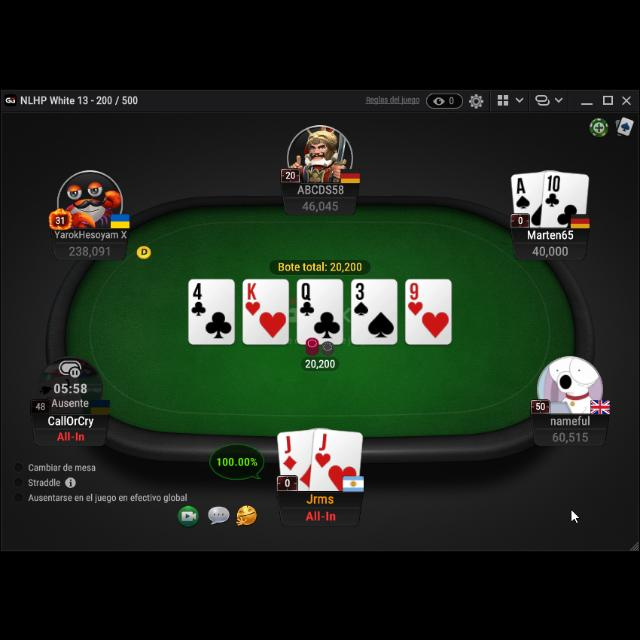3s: (352, 280, 372, 318)
4c: (190, 280, 207, 318)
9h: (406, 280, 426, 318)
As: (514, 175, 532, 211)
Jd: (280, 432, 300, 472)
Jh: (314, 432, 332, 468)
Kh: (244, 281, 262, 317)
Qc: (298, 280, 316, 318)
Tc: (544, 172, 562, 208)
all_in_symbol: (303, 507, 339, 523), (56, 428, 85, 444)
bet_text: (304, 356, 338, 369)
dealer: (134, 242, 154, 262)
pot_text: (277, 261, 363, 273)
stack_text: (531, 244, 569, 258), (552, 430, 590, 444), (68, 244, 112, 256)
